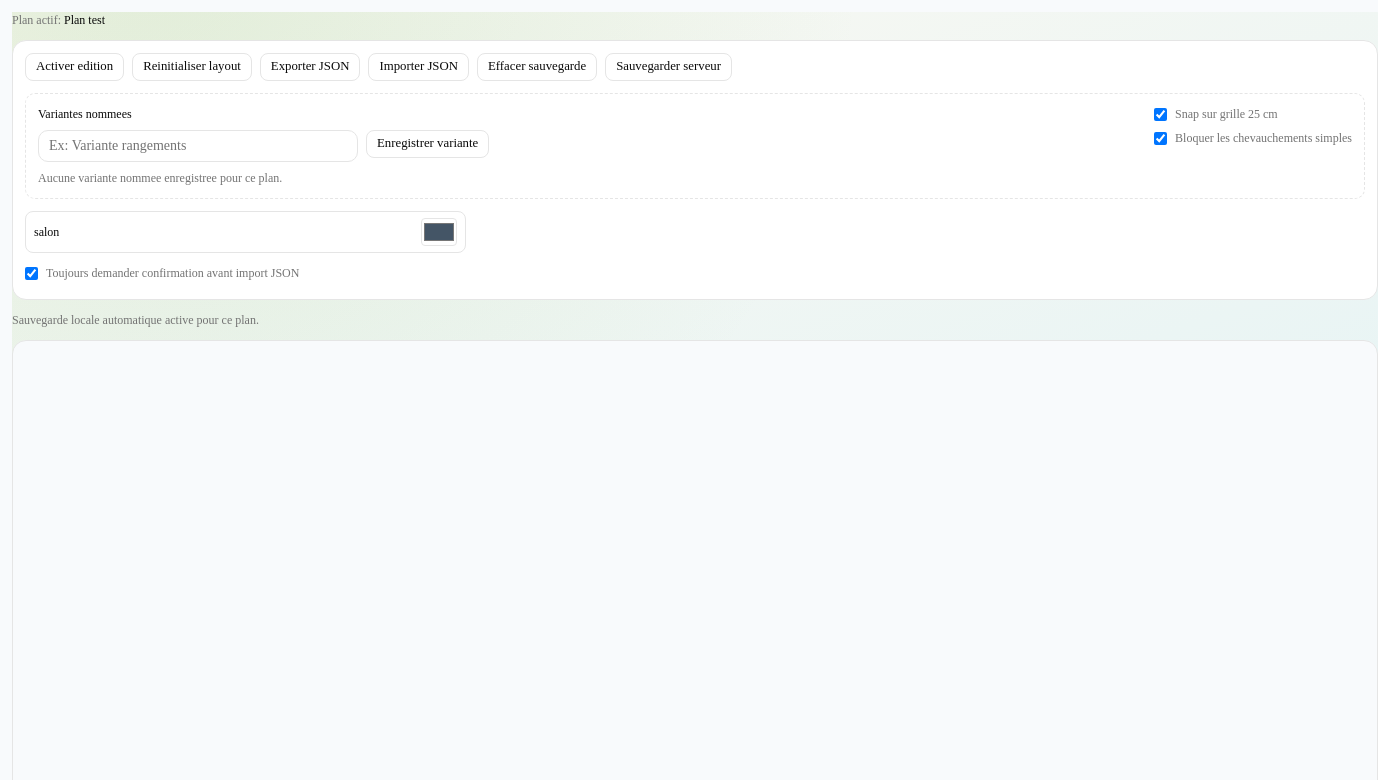
Test: Plan3DHabitat import/export › enregistre une variante nommee et la pousse au serveur
The image size is (1378, 780).
In the field with placeholder "Ex: Variante rangements": (198, 146) 38,130 -> 358,162, type "Variante bureau"
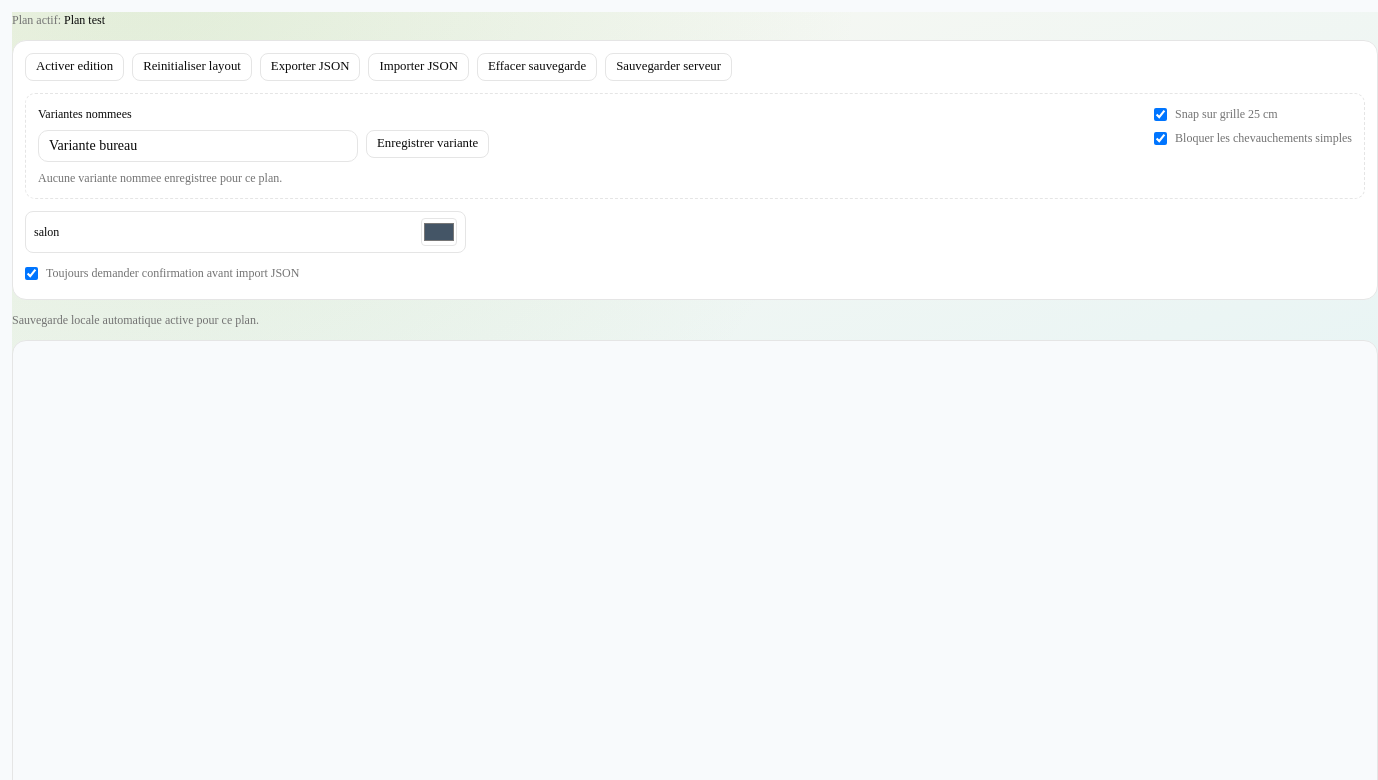
Click the button "Enregistrer variante": (428, 144) 366,130 -> 489,158
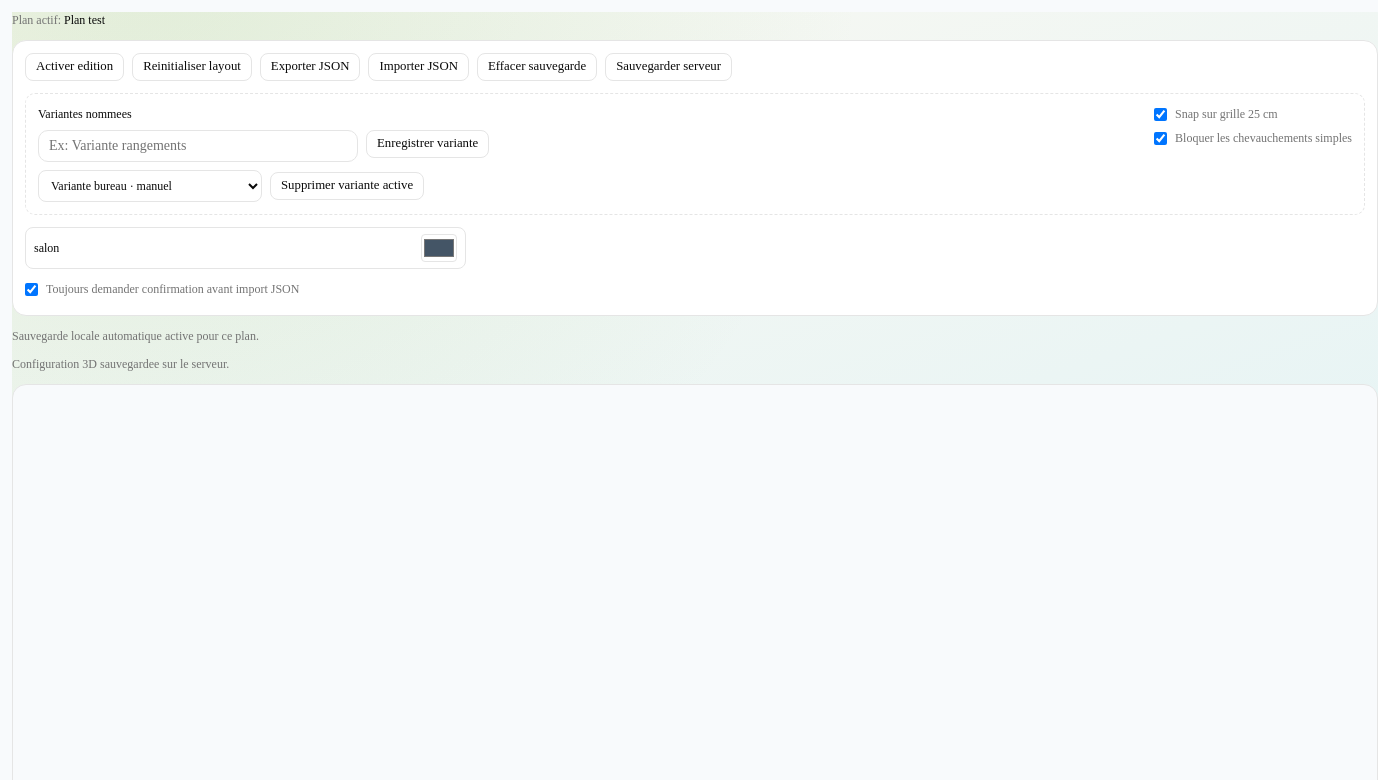
Now the text "Configuration 3D sauvegardee sur le serveur." is shown, box 12,356 -> 229,370
